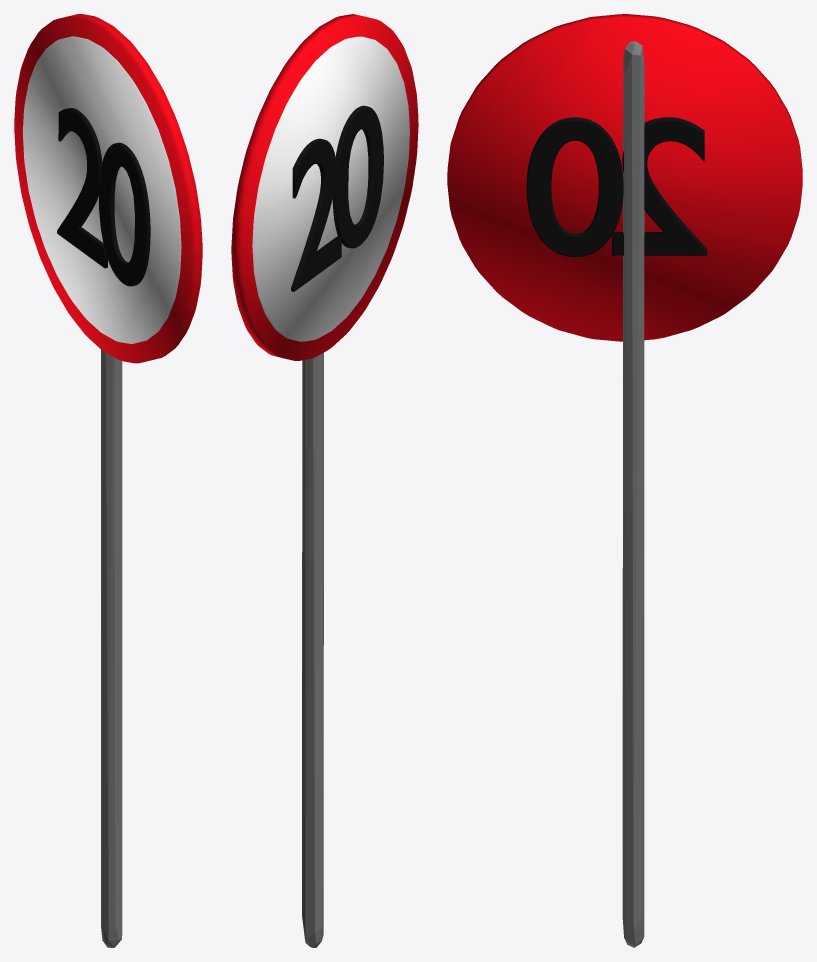
The model's file is StreetSign.fbx.
3 views of the same model, side by side, from view 1: azimuth 30°, elevation 25°; view 2: azimuth 150°, elevation 25°; view 3: azimuth 270°, elevation 25° (orthographic).
Visible parts, largest first — view 1: 20km.001; view 2: 20km.001; view 3: 20km.001.
Part boxes in pixels (box(x1,y1,x2,y2)): 20km.001: box(14, 14, 202, 947); 20km.001: box(231, 14, 418, 947); 20km.001: box(447, 14, 802, 947).
Bounding box in the file's own units: 0.00758 × 0.2358 × 0.0819.
